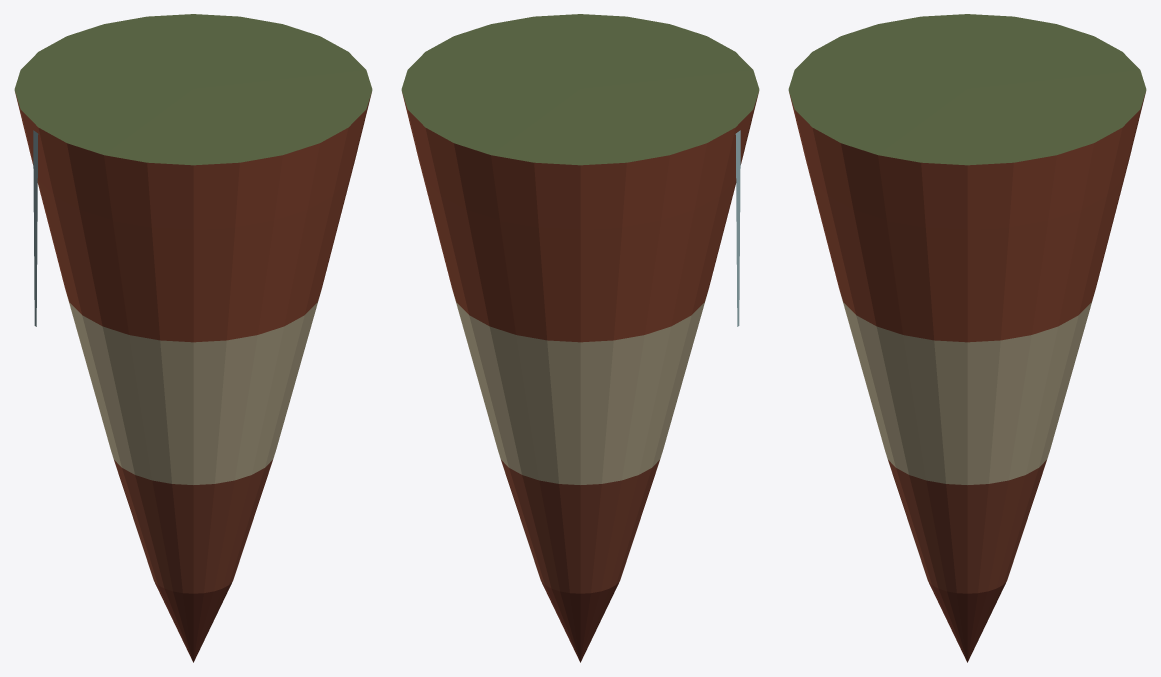
Rendered from landmark_sky_island_far.glb.
The picture shows the model from 3 angles, left to right: view 1: azimuth 30°, elevation 25°; view 2: azimuth 150°, elevation 25°; view 3: azimuth 270°, elevation 25°; orthographic projection.
Parts seen in each view (by area): view 1: landmark_sky_island_far; view 2: landmark_sky_island_far; view 3: landmark_sky_island_far.
Part boxes in pixels (x1,y1,x2,y2): landmark_sky_island_far: (14, 14, 372, 662); landmark_sky_island_far: (401, 14, 759, 662); landmark_sky_island_far: (788, 14, 1146, 662).
Size of the model in its own units: 182 by 318 by 180.
